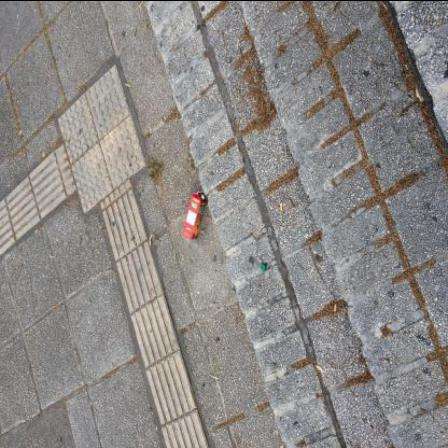Bottle cap: (262, 264, 268, 272)
Carton: (183, 192, 207, 240)
Cigarette: (281, 203, 285, 212), (35, 229, 39, 234), (335, 304, 337, 312)
